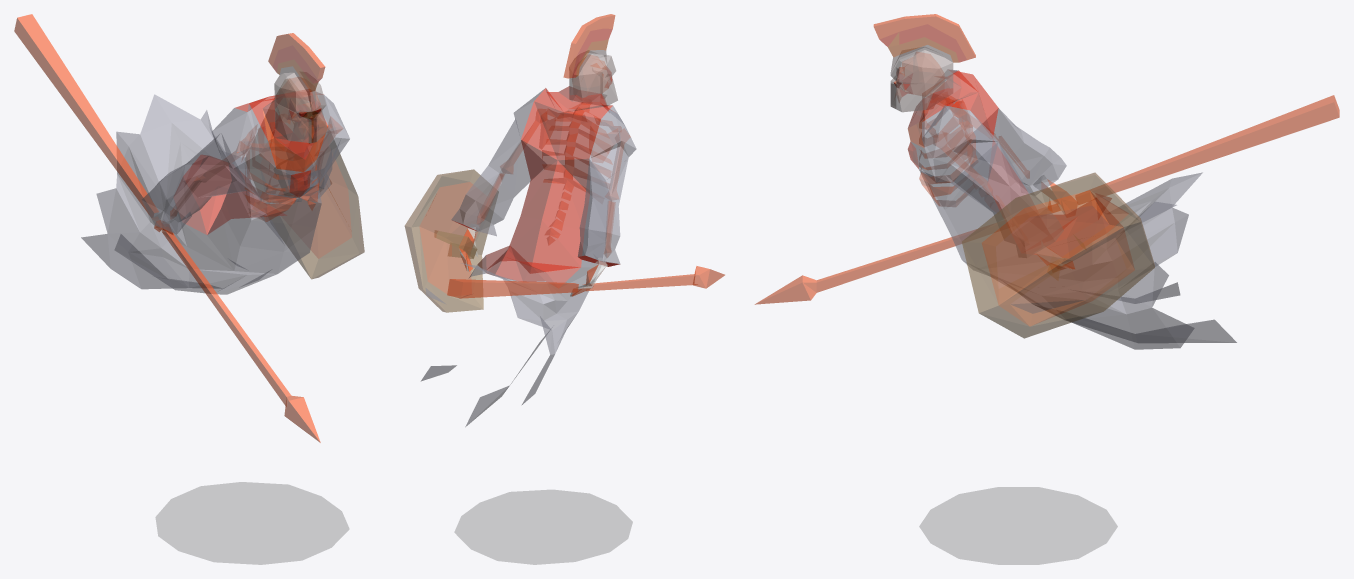
The model's file is soul_melee.glb.
3 renders of one model, left to right at view 1: azimuth 30°, elevation 25°; view 2: azimuth 150°, elevation 25°; view 3: azimuth 270°, elevation 25°, orthographic. The views are drawn at different scales.
Bounding box in the file's own units: 73 × 198 × 206.
2 materials, 2 textured.
